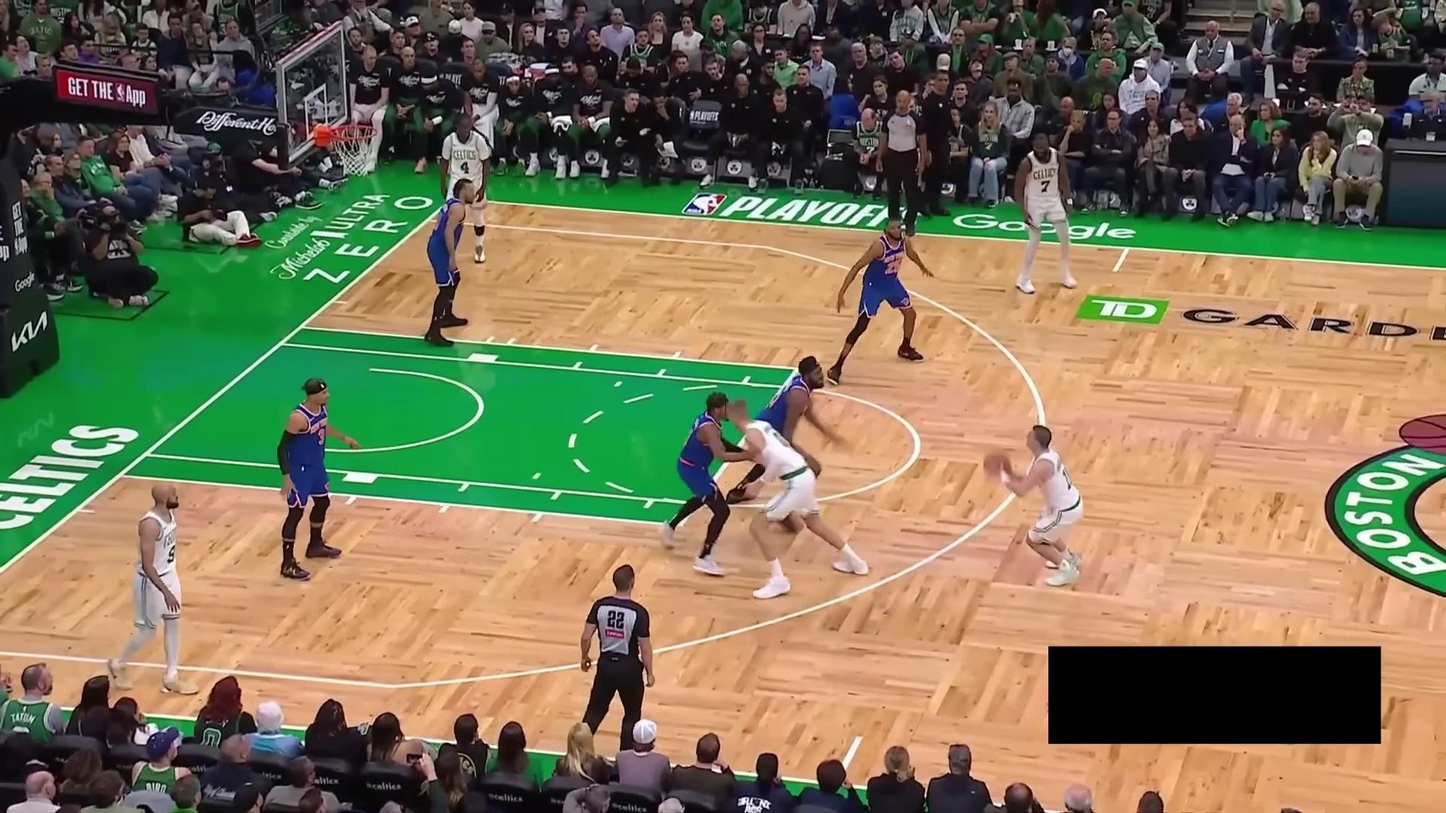ball: (984, 452, 1012, 481)
number: (884, 257, 903, 276), (317, 426, 327, 445), (167, 543, 176, 564), (460, 158, 471, 175), (1040, 179, 1051, 193)
player: (723, 395, 874, 596), (102, 480, 210, 701), (652, 385, 754, 580), (826, 211, 935, 389), (726, 351, 843, 513), (270, 376, 362, 582), (1010, 131, 1085, 298), (421, 175, 482, 347), (436, 107, 496, 266)
player-in-possession: (984, 421, 1092, 591)
referee: (573, 560, 661, 756), (870, 84, 935, 239)
rim: (330, 122, 380, 141)
